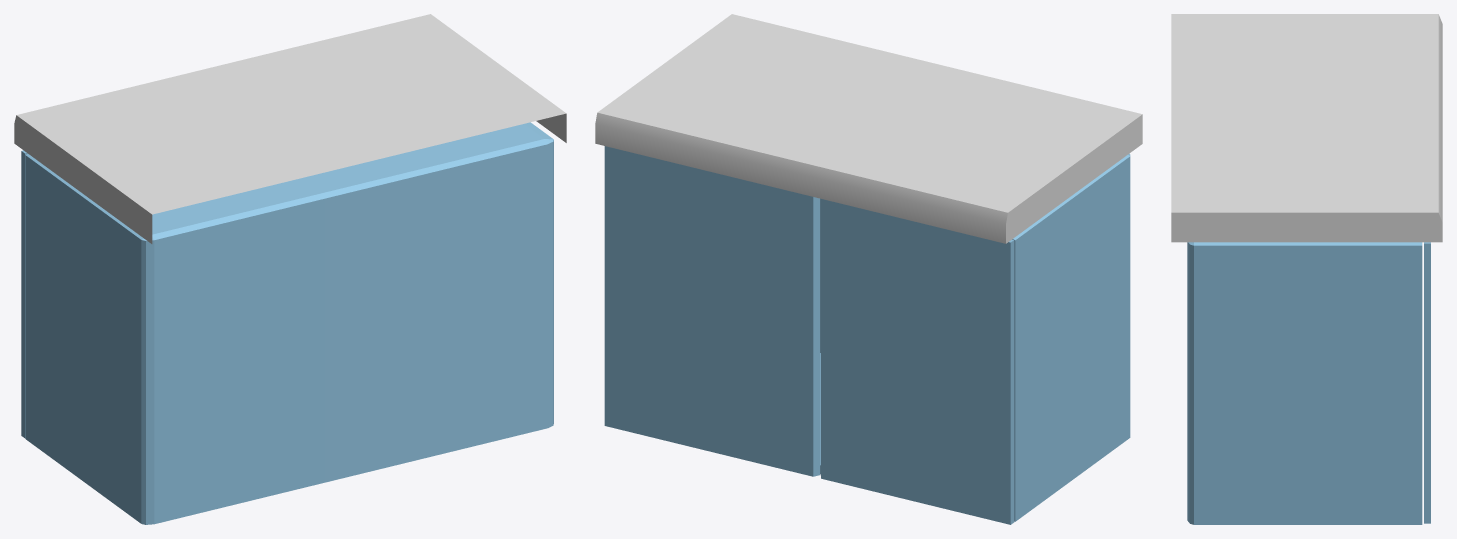
The model's file is Prop_kitchenT_closet.FBX.
3 views of the same model, side by side, from view 1: azimuth 30°, elevation 25°; view 2: azimuth 150°, elevation 25°; view 3: azimuth 270°, elevation 25° (orthographic).
Visible parts, largest first — view 1: Prop_closet025, Prop_kitchentop1, Prop_closet027; view 2: Prop_kitchentop1, Prop_closet024, Prop_closet027, Prop_closet025; view 3: Prop_closet025, Prop_kitchentop1, Prop_closet024.
Part boxes in pixels (left/top/right/bottom): Prop_closet025: left=25, top=122, right=553, bottom=524; Prop_kitchentop1: left=14, top=14, right=566, bottom=243; Prop_closet027: left=21, top=150, right=27, bottom=437; Prop_kitchentop1: left=595, top=14, right=1142, bottom=243; Prop_closet024: left=604, top=146, right=819, bottom=476; Prop_closet027: left=820, top=199, right=1014, bottom=524; Prop_closet025: left=820, top=153, right=1130, bottom=521; Prop_closet025: left=1187, top=242, right=1422, bottom=524; Prop_kitchentop1: left=1171, top=14, right=1442, bottom=242; Prop_closet024: left=1424, top=242, right=1430, bottom=523.
Bounding box in the file's own units: 51.62 × 29.76 × 37.86.
